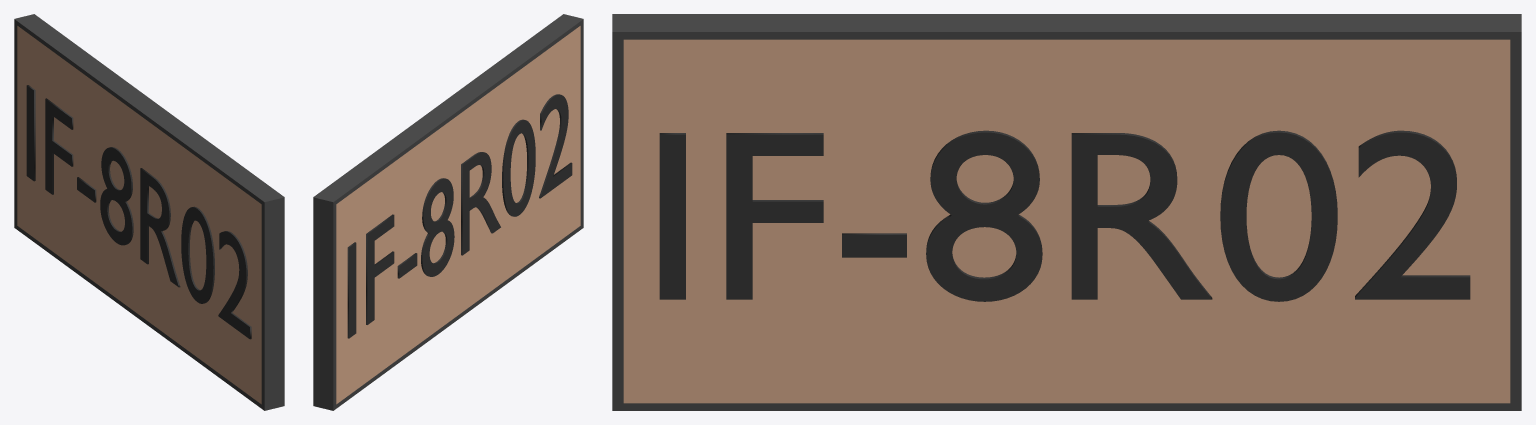
3 views of the same model, side by side, from view 1: azimuth 30°, elevation 25°; view 2: azimuth 150°, elevation 25°; view 3: azimuth 270°, elevation 25° (orthographic). The views are drawn at different scales.
Visible parts, largest first — view 1: Cube, Text.001; view 2: Cube, Text.001; view 3: Cube, Text.
Part boxes in pixels (left/top/right/bottom): Cube: left=14, top=14, right=284, bottom=410; Text.001: left=26, top=85, right=251, bottom=339; Cube: left=313, top=14, right=583, bottom=410; Text.001: left=347, top=94, right=572, bottom=338; Cube: left=612, top=14, right=1521, bottom=410; Text: left=659, top=130, right=1470, bottom=301.
Bounding box in the file's own units: 12.6 × 105 × 229.
